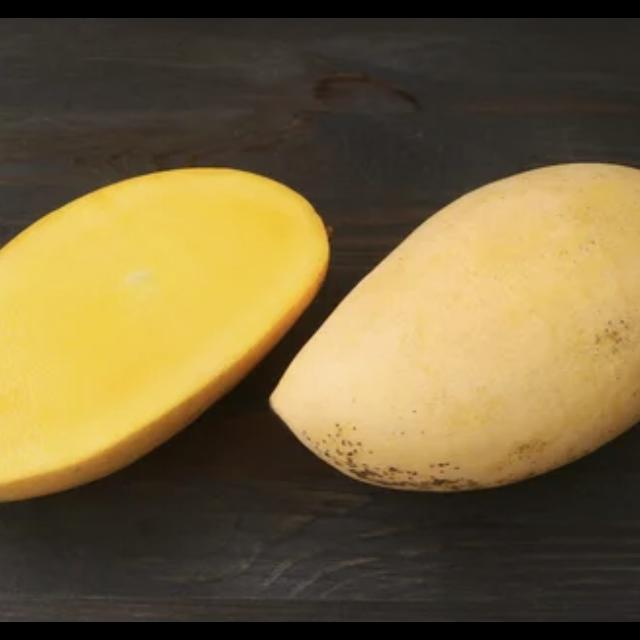mango: (272, 159, 640, 494)
